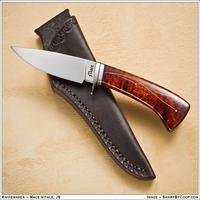knife: (9, 37, 185, 123)
